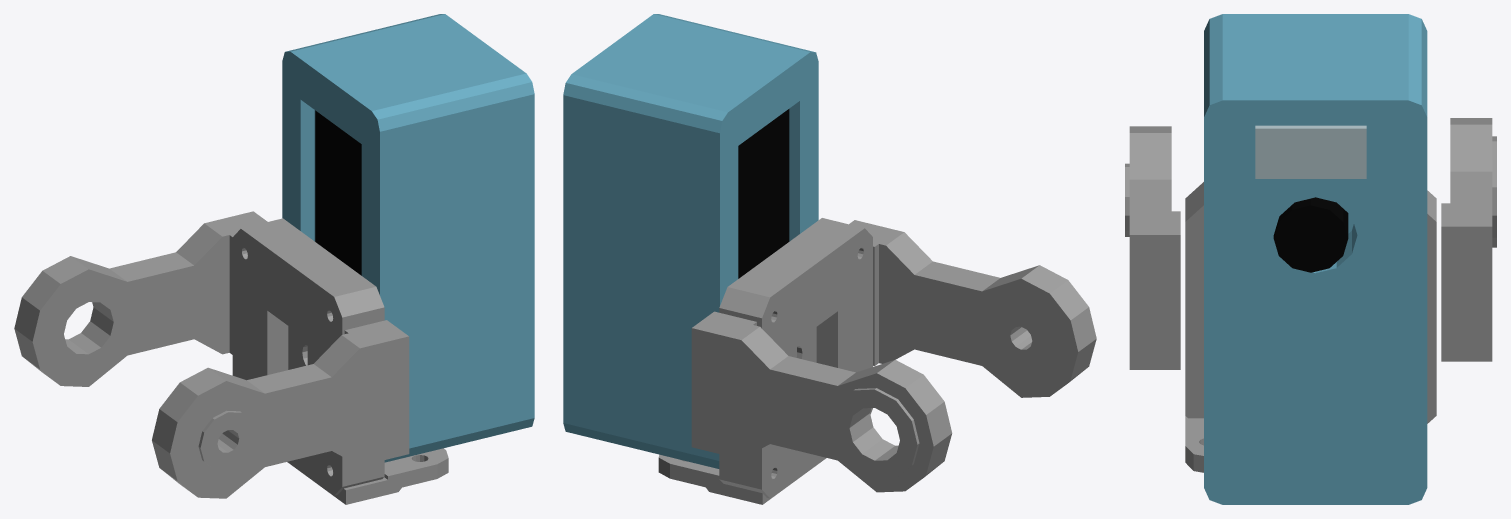
Rendered from head-leye-y.glb.
3 views of the same model, side by side, from view 1: azimuth 30°, elevation 25°; view 2: azimuth 150°, elevation 25°; view 3: azimuth 270°, elevation 25° (orthographic). The views are drawn at different scales.
Size of the model in its own units: 0.0575 by 0.0505 by 0.04.
